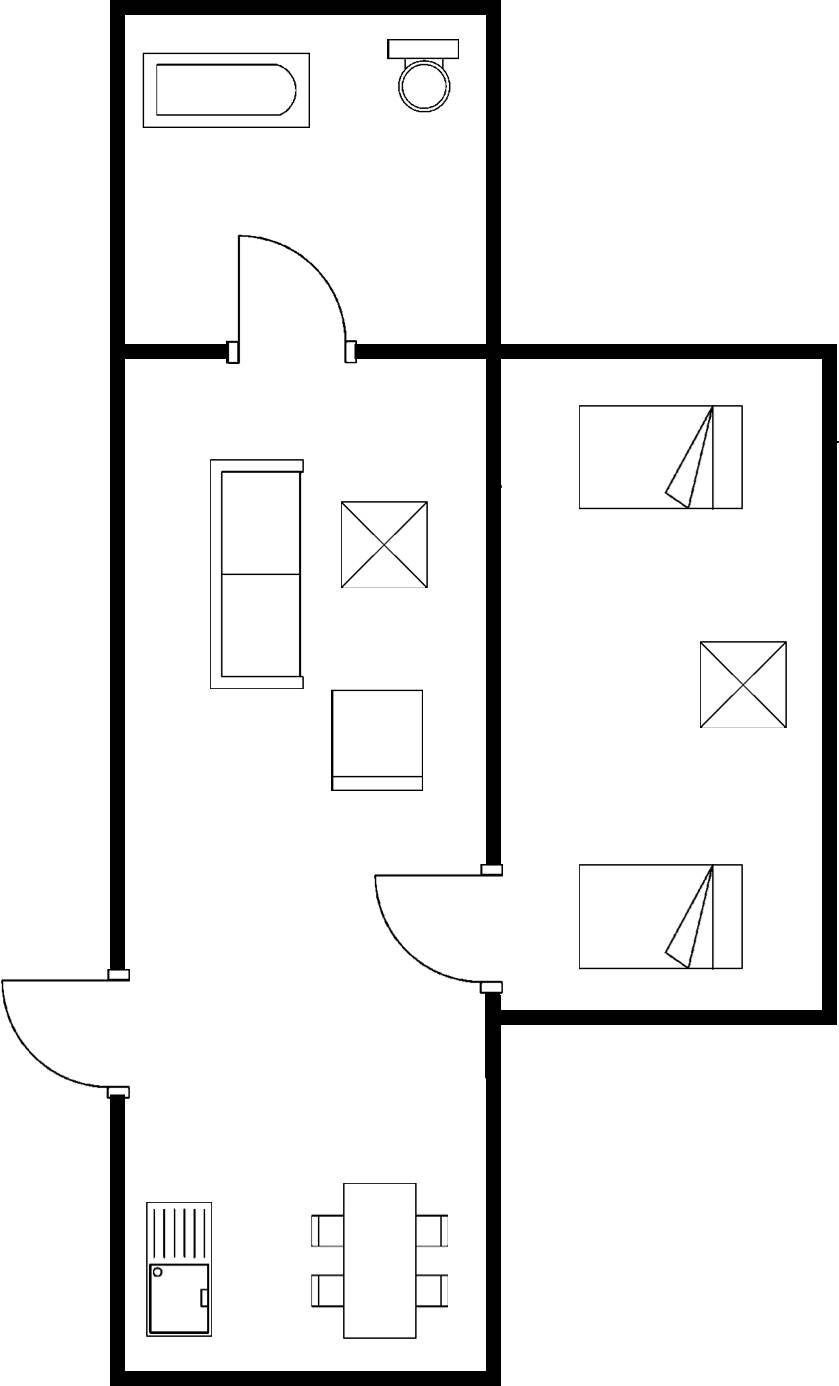bed: (571, 398, 752, 518), (571, 859, 750, 979)
coffee_table: (688, 631, 795, 734), (333, 494, 438, 596)
dining_table: (299, 1173, 460, 1345)
large_sink: (379, 31, 464, 119)
large_sofa: (202, 453, 313, 698)
sink: (133, 1196, 226, 1346)
small_sofa: (323, 680, 434, 802)
tub: (138, 48, 319, 138)
